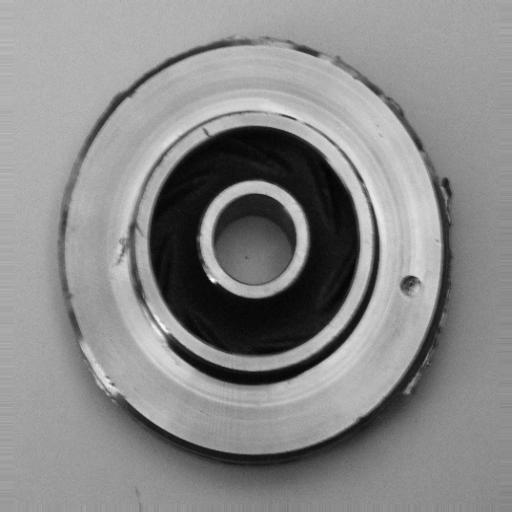casting_with_burr: (58, 32, 456, 466)
crack: (109, 213, 148, 276)
pit: (398, 266, 431, 309)
scratch: (137, 301, 182, 351)
